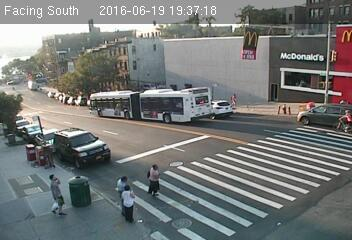neg: (335, 105, 351, 135), (37, 146, 54, 169), (266, 80, 282, 100)
pos: (38, 173, 71, 217), (112, 185, 141, 222), (142, 161, 168, 197), (113, 173, 131, 198), (226, 92, 239, 109)
